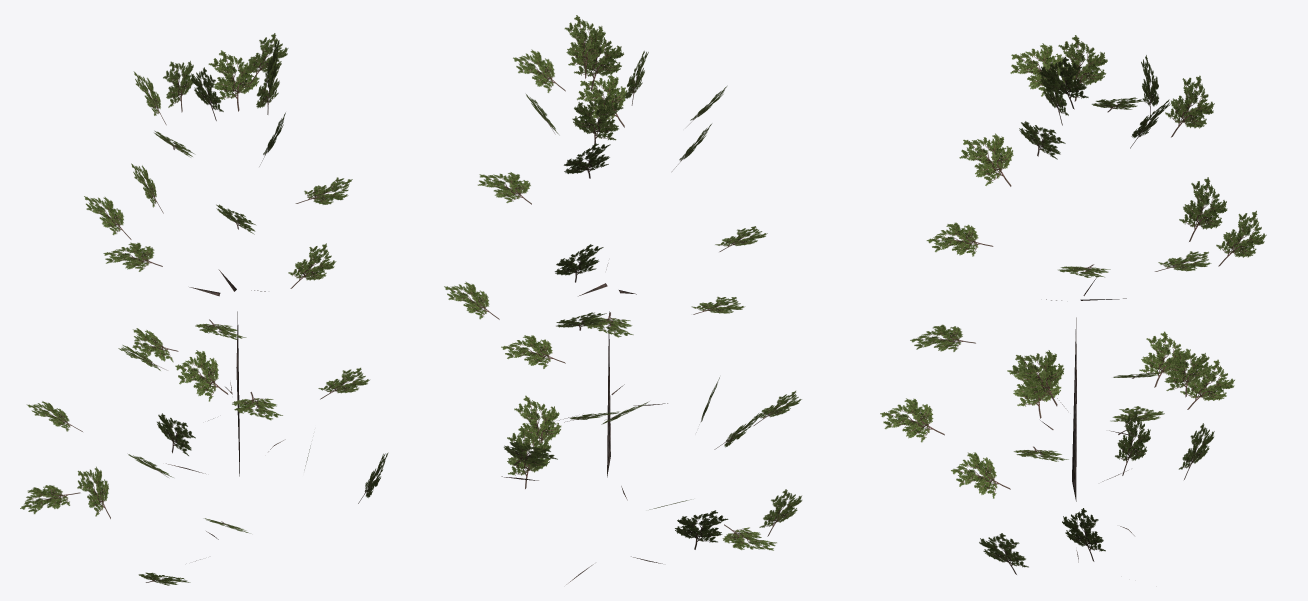
The model's file is noblefir0_lod2.glb.
3 views of the same model, side by side, from view 1: azimuth 30°, elevation 25°; view 2: azimuth 150°, elevation 25°; view 3: azimuth 270°, elevation 25° (orthographic). The views are drawn at different scales.
Parts seen in each view (by area): view 1: NobleFir_LOD2; view 2: NobleFir_LOD2; view 3: NobleFir_LOD2.
Part boxes in pixels (left/top/right/bottom): NobleFir_LOD2: left=20, top=33, right=388, bottom=585; NobleFir_LOD2: left=444, top=15, right=802, bottom=584; NobleFir_LOD2: left=880, top=35, right=1266, bottom=574.
Size of the model in its own units: 4.65 by 6.88 by 4.88.
2 materials, 2 textured.
